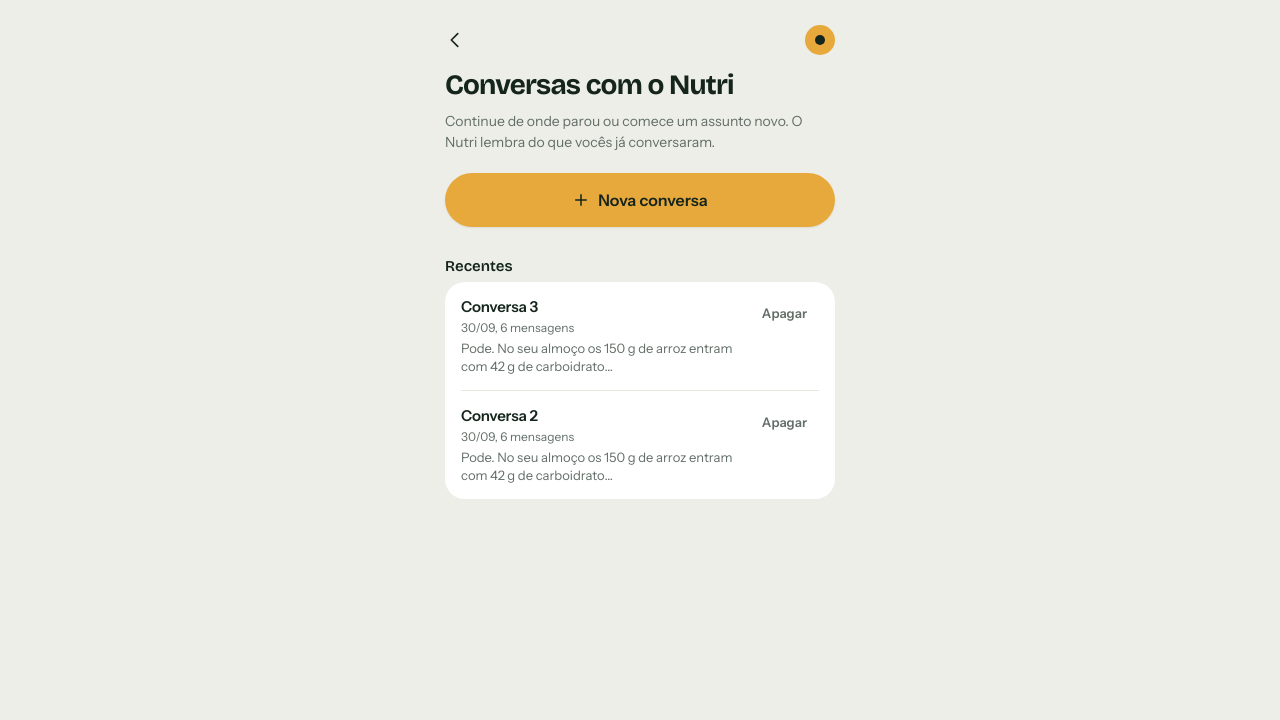
Test: Conversas (N05) › apagar pede confirmação e tira da lista (CA11)
This screenshot has width=1280, height=720.
Click the button "Apagar" in the row of "Conversa 3": (784, 314) [750,296,819,332]
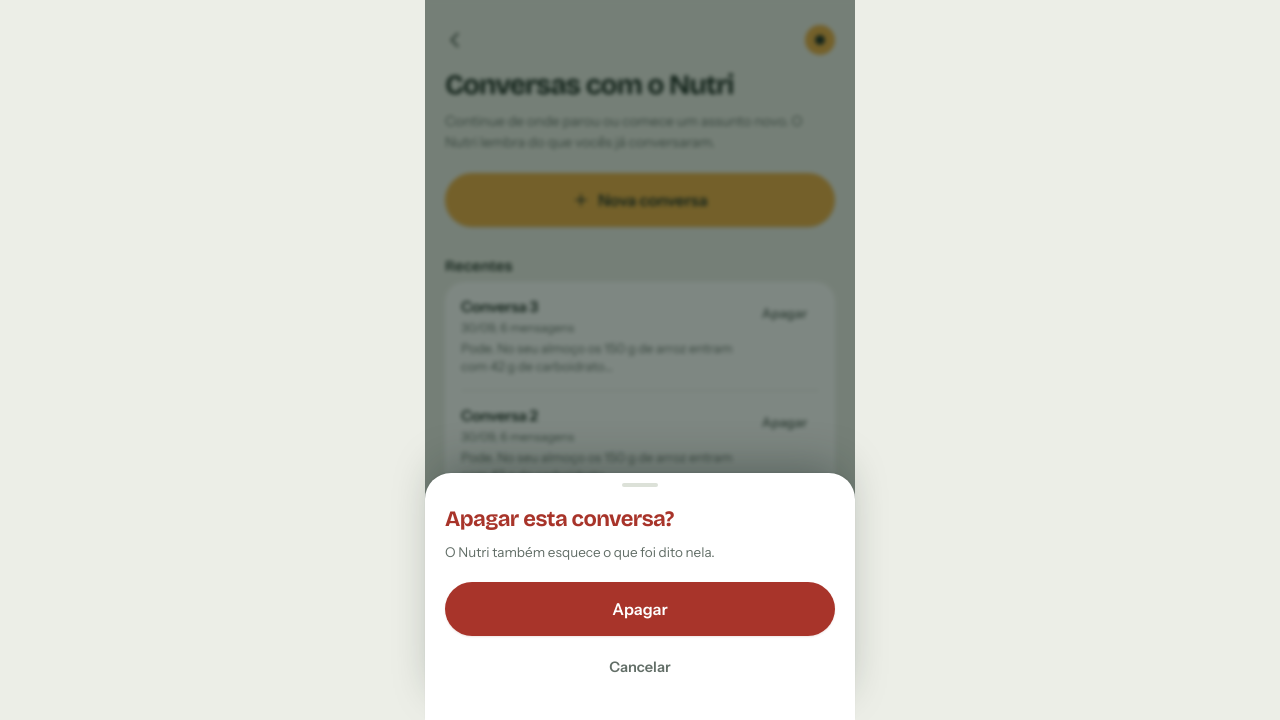
Now the text "O Nutri também esquece o que foi dito nela." is shown, box [445,544,715,560]
Click the button "Apagar": (640, 609) [445,582,835,636]
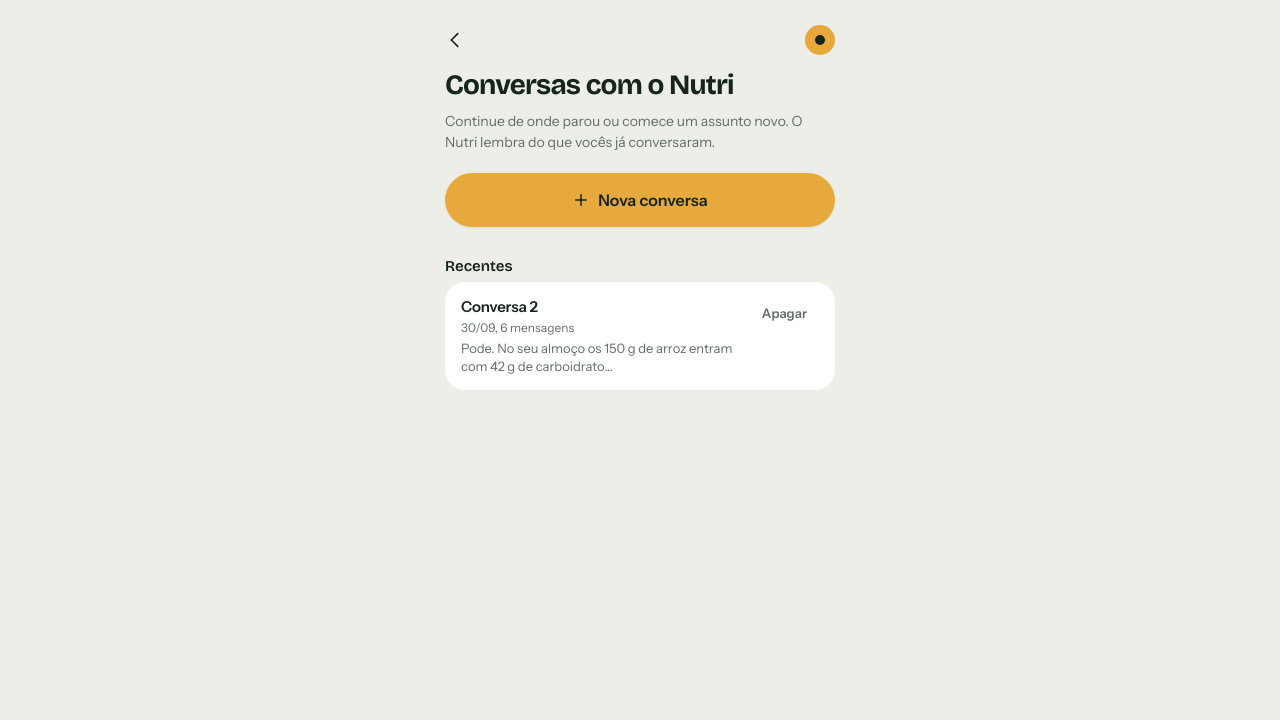
Now the link "Conversa 3" is gone
